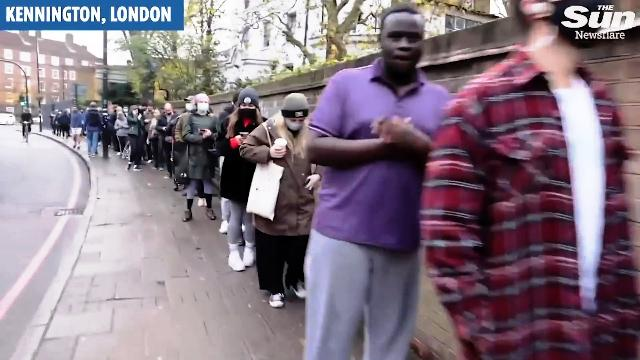berdiri: (288, 4, 470, 360), (236, 92, 328, 320), (175, 82, 223, 228)
